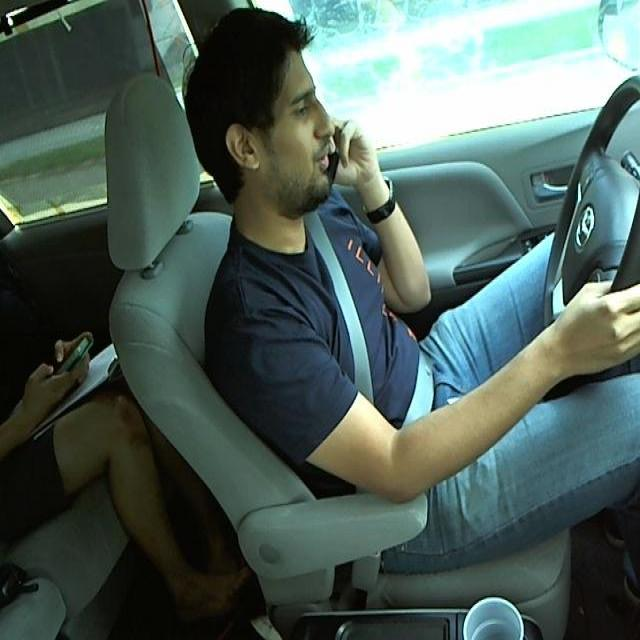using_phone: (174, 19, 394, 228)
